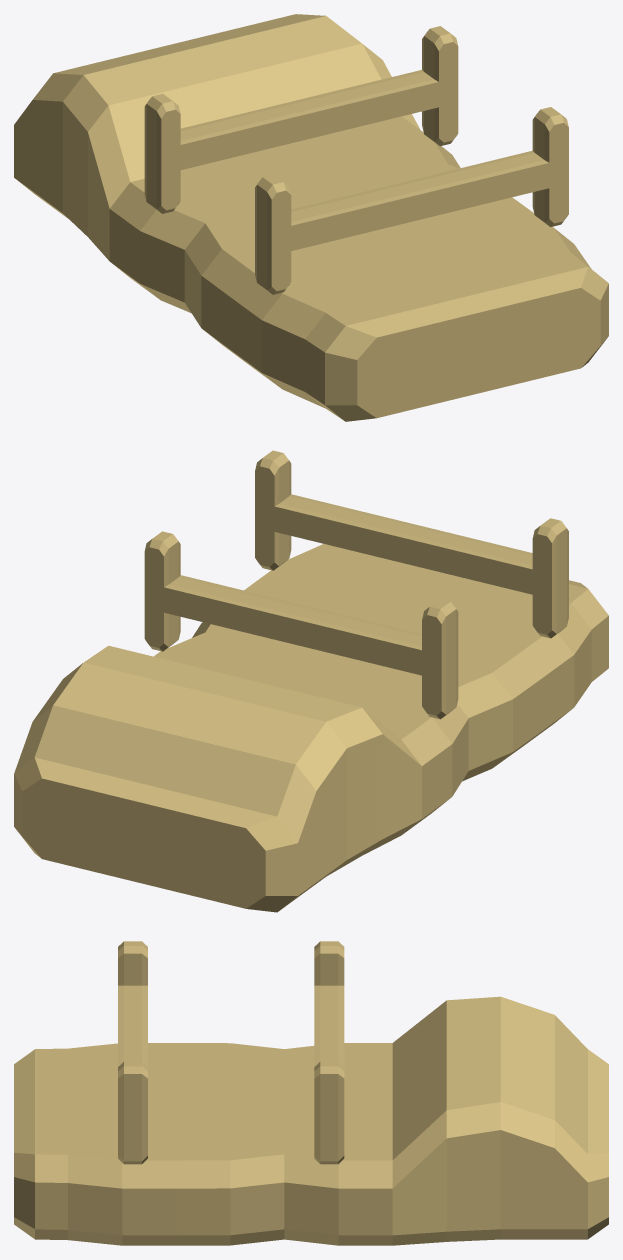
The model's file is tallow_medium_b.glb.
The picture shows the model from 3 angles, top to bottom: view 1: azimuth 30°, elevation 25°; view 2: azimuth 150°, elevation 25°; view 3: azimuth 270°, elevation 25°; orthographic projection. The views are drawn at different scales.
Visible parts, largest first — view 1: tallow_medium_b; view 2: tallow_medium_b; view 3: tallow_medium_b.
Part boxes in pixels (x1,y1,x2,y2): tallow_medium_b: (14, 14, 608, 421); tallow_medium_b: (14, 450, 608, 912); tallow_medium_b: (14, 941, 608, 1245).
Bounding box in the file's own units: 3.5 × 2.21 × 6.5.
